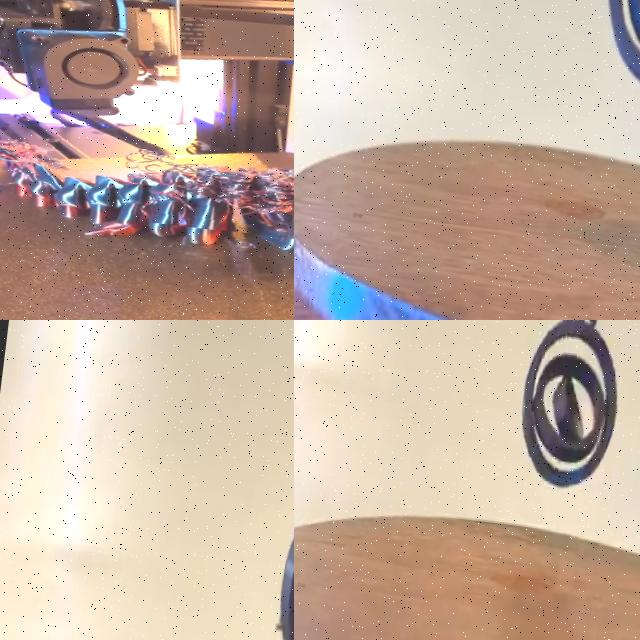spaghetti: (146, 151, 294, 268), (0, 106, 64, 177)
